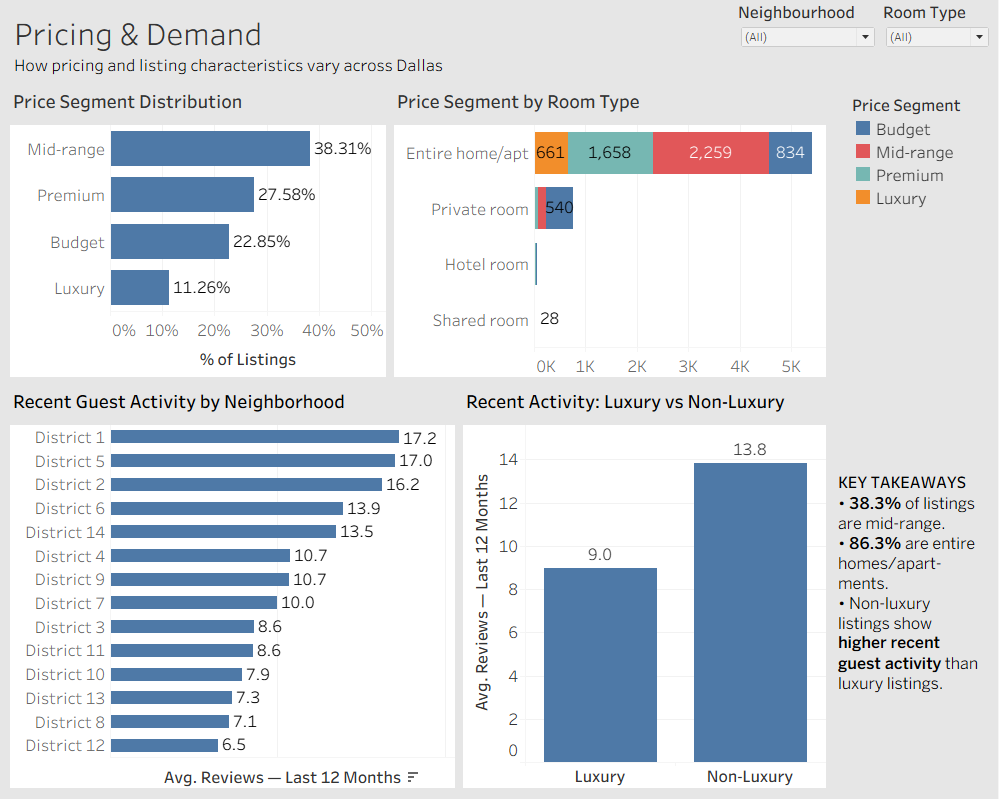

The dashboard page shown, as its layout file describes it:
{"tool":"tableau","page":{"name":"Pricing & Demand","canvas":[1000,800],"ordinal":2},"visuals":[{"type":"title","box":[8,8,984,73]},{"type":"worksheet","title":"Price Segment Distribution","mark":"Automatic","rows":["Calculation_0691645851435008"],"cols":["id"],"box":[8,81,384,299.7]},{"type":"worksheet","title":"Price Segment by Room Type","mark":"Automatic","rows":["room_type"],"cols":["id"],"box":[392,81,440,299.7]},{"type":"legend","title":"Price Segment by Room Type","param":"[federated.1g8rsme0tv0b6e1f2bbie0vzgvow].[none:Calculation_0691645851435008:nk]","box":[832,81,160,123]},{"type":"filter","title":"Recent Activity by Neighborhood","param":"[federated.1g8rsme0tv0b6e1f2bbie0vzgvow].[none:neighbourhood:nk]","box":[832,204,160,57]},{"type":"filter","title":"Price Segment Distribution","param":"[federated.1g8rsme0tv0b6e1f2bbie0vzgvow].[none:room_type:nk]","box":[832,261,160,57]},{"type":"worksheet","title":"Recent Activity by Neighborhood","mark":"Automatic","rows":["neighbourhood"],"cols":["number_of_reviews_ltm"],"box":[8,380.7,453,411.3]},{"type":"worksheet","title":"Luxury vs Non-Luxury","mark":"Automatic","rows":["number_of_reviews_ltm"],"cols":["Calculation_0691645856731138"],"box":[461,380.7,371,411.3]},{"type":"text","box":[832,381,160,411]}]}

Visuals, with their boxes in screenshot pixels (x1, y1, x2, y2), scaled from the page's 1000x800 canvas onto the 999x799 screenshot:
title: 8, 8, 991, 81
"Price Segment Distribution" worksheet: 8, 81, 392, 380
"Price Segment by Room Type" worksheet: 392, 81, 831, 380
"Price Segment by Room Type" legend: 831, 81, 991, 204
"Recent Activity by Neighborhood" filter: 831, 204, 991, 261
"Price Segment Distribution" filter: 831, 261, 991, 318
"Recent Activity by Neighborhood" worksheet: 8, 380, 461, 791
"Luxury vs Non-Luxury" worksheet: 461, 380, 831, 791
text: 831, 381, 991, 791
